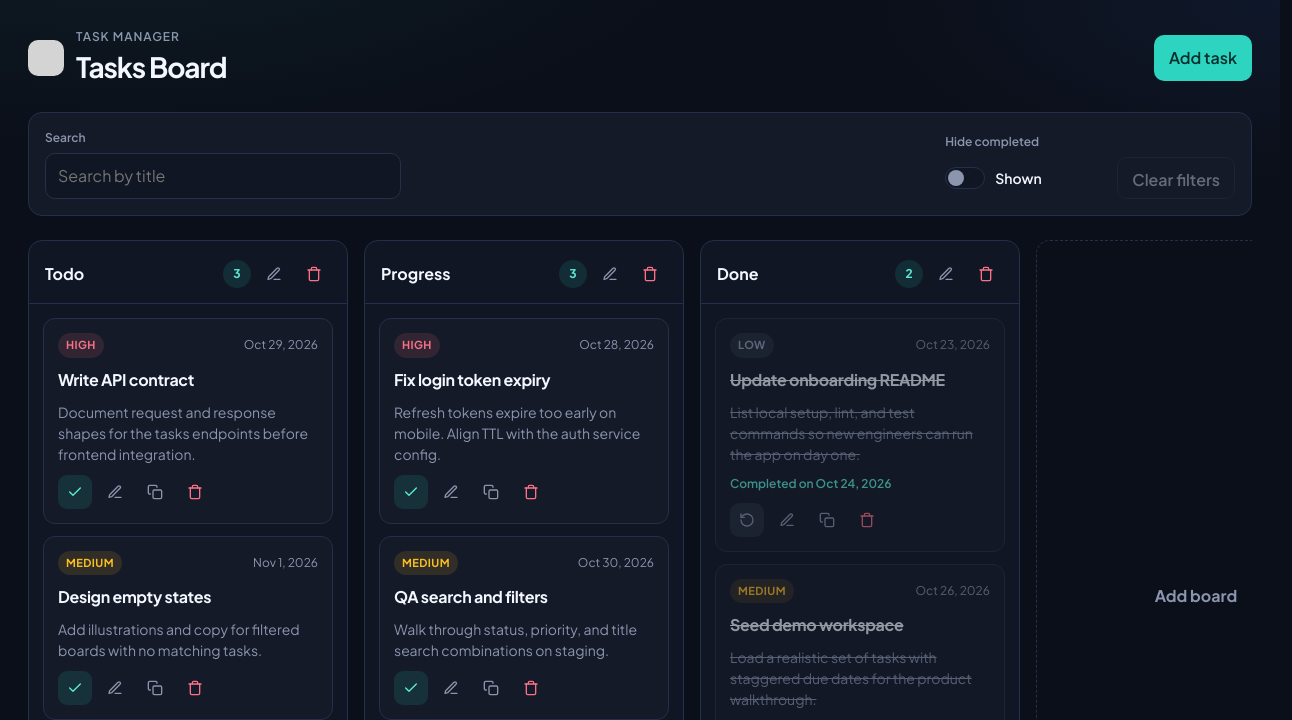
Test: App › shows a tooltip when hovering an action icon
The width and height of the screenshot is (1292, 720).
Step 1. Hover over the button named "Delete" below "Write API contract" → (195, 492), box [178,474,212,508]
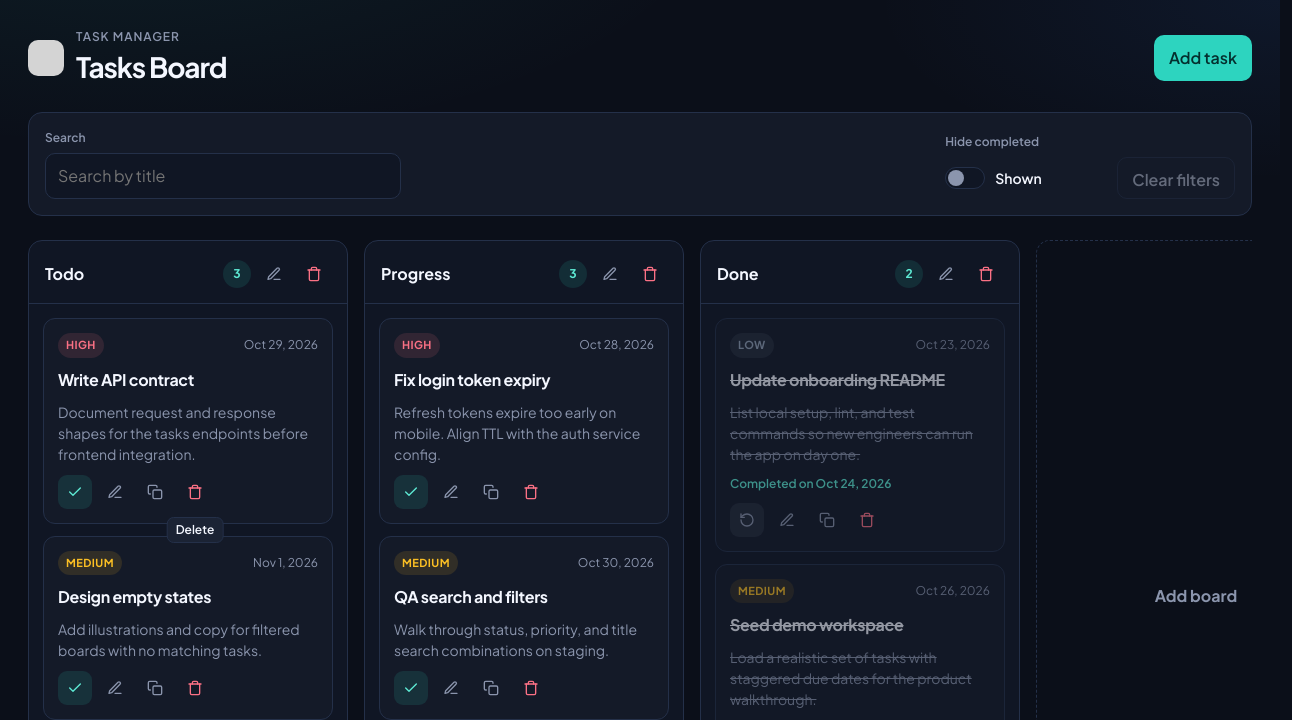
Now the tooltip "Delete" is shown, box [167,516,223,543]
